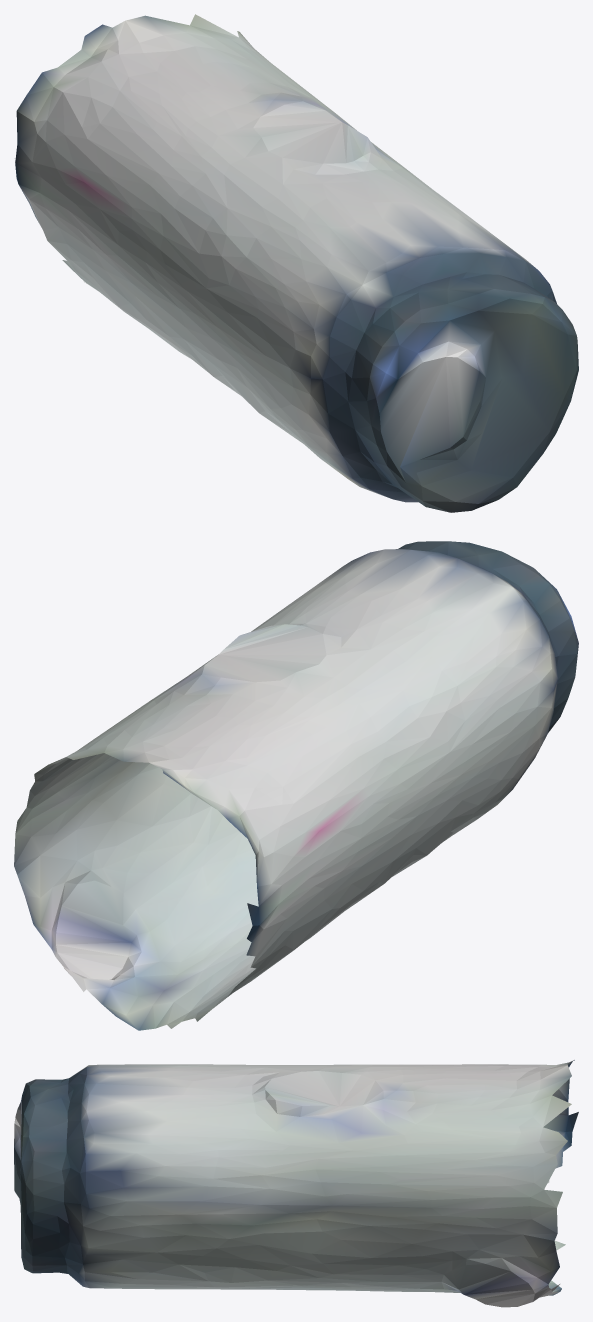
Rendered from scan.obj.
3 renders of one model, top to bottom at view 1: azimuth 30°, elevation 25°; view 2: azimuth 150°, elevation 25°; view 3: azimuth 270°, elevation 25°, orthographic. The views are drawn at different scales.
Parts seen in each view (by area): view 1: scan.ply; view 2: scan.ply; view 3: scan.ply.
Boxes of the visible parts, bbox=[...] form: scan.ply: bbox=[15, 14, 578, 512]; scan.ply: bbox=[14, 541, 578, 1030]; scan.ply: bbox=[14, 1060, 578, 1307].
Bounding box in the file's own units: 0.0157 × 0.0163 × 0.0383.
